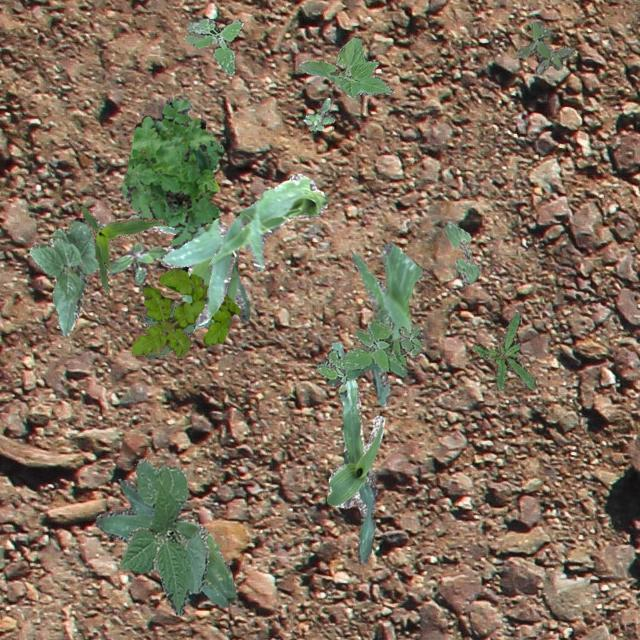crop: (195, 172, 328, 324), (93, 478, 234, 606), (328, 240, 422, 406), (119, 458, 208, 614), (128, 215, 248, 328), (326, 342, 384, 562), (28, 217, 102, 336), (78, 204, 164, 294), (298, 38, 392, 96), (442, 220, 480, 284)
weed: (120, 96, 222, 248), (130, 268, 238, 356), (316, 306, 422, 381), (470, 310, 534, 390), (182, 17, 242, 74), (140, 302, 197, 358), (514, 21, 574, 74), (106, 242, 166, 284), (302, 96, 334, 130)
